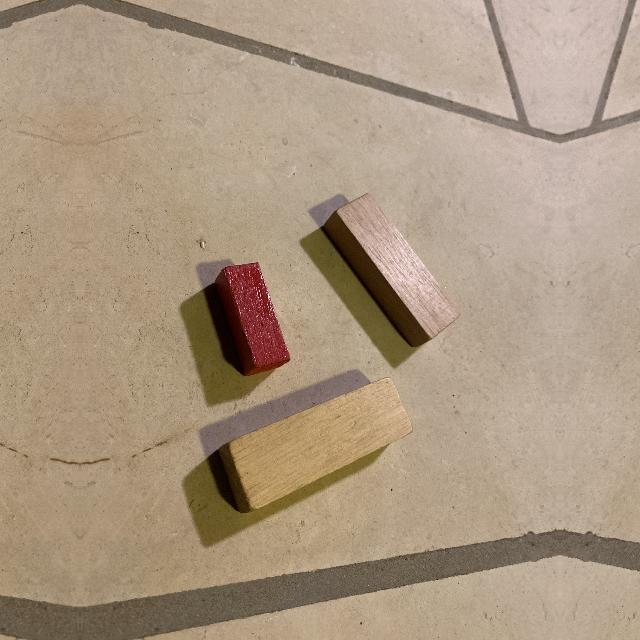jenga: (218, 378, 413, 514), (322, 193, 461, 348)
red block: (214, 262, 291, 377)
